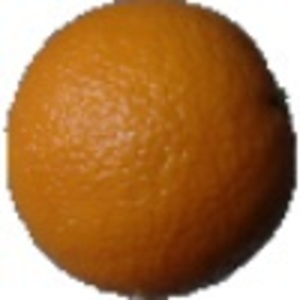laranja: (3, 3, 297, 294)
